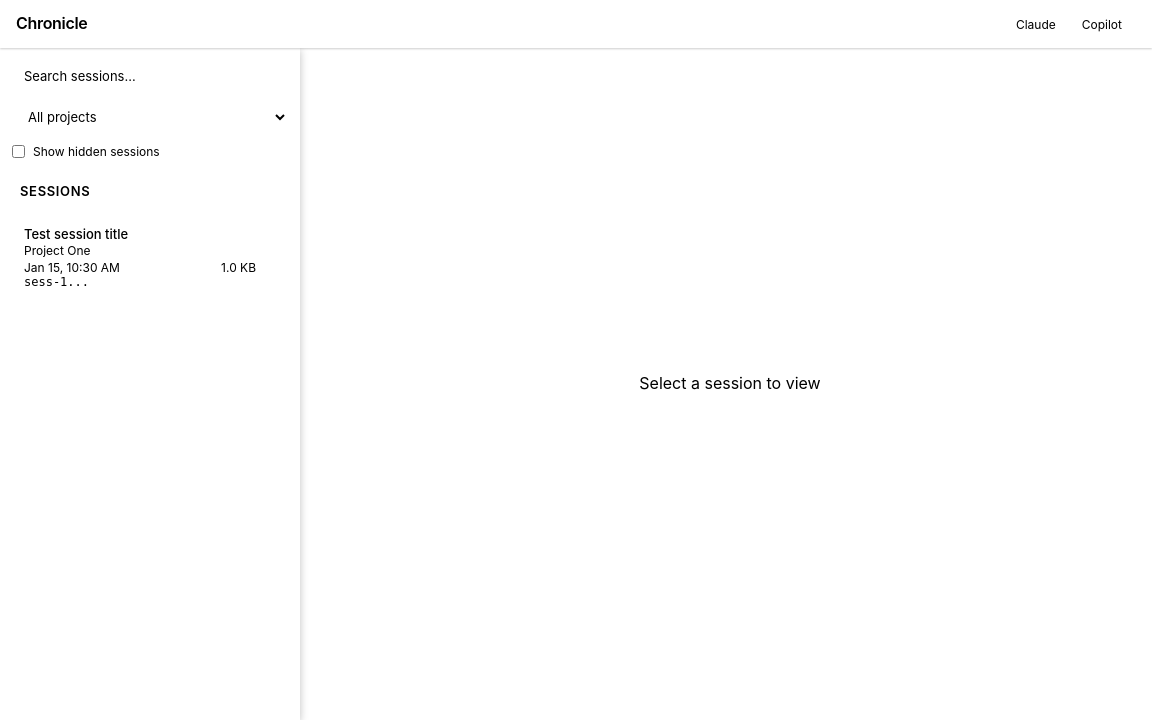
Scenario: App › shows loading state for selected session
The image size is (1152, 720).
Click the text "Project One". click: x=57, y=250
box: [24,243,90,258]
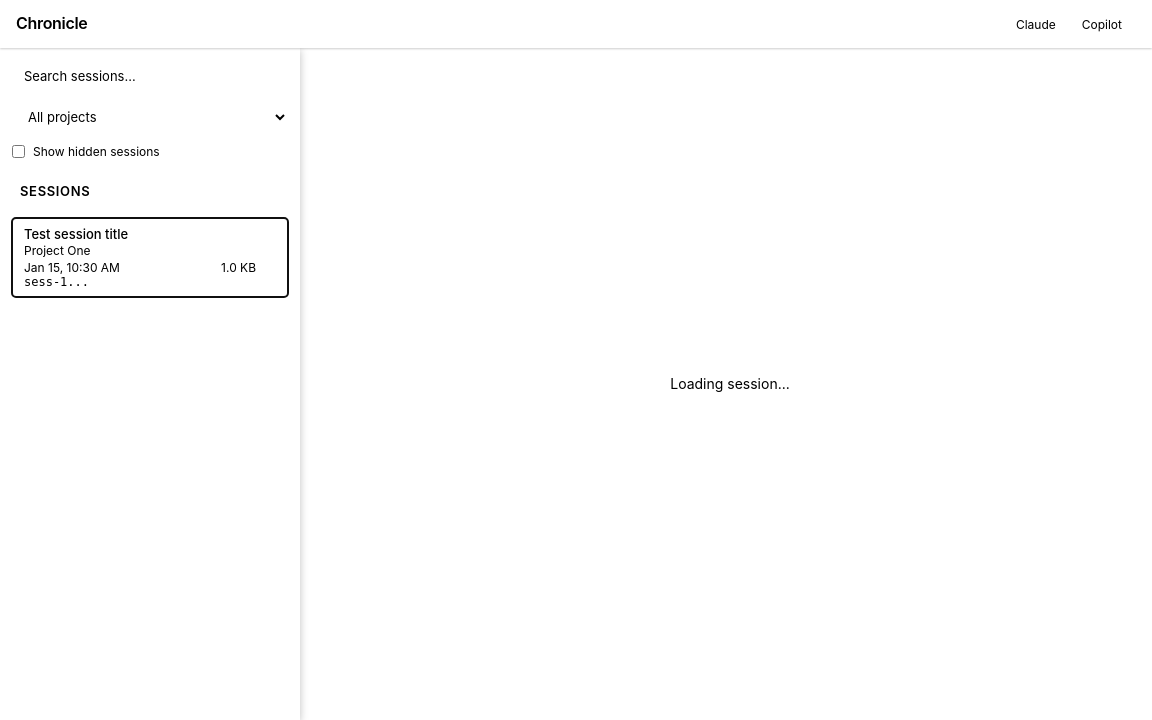
Expected: the text "Loading session..." is shown, [670,375,790,392]
